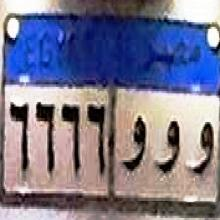6: (83, 94, 109, 181), (7, 96, 34, 178), (34, 95, 57, 179), (59, 100, 82, 180)
waw: (152, 108, 180, 180), (186, 112, 214, 182), (121, 109, 147, 176)
